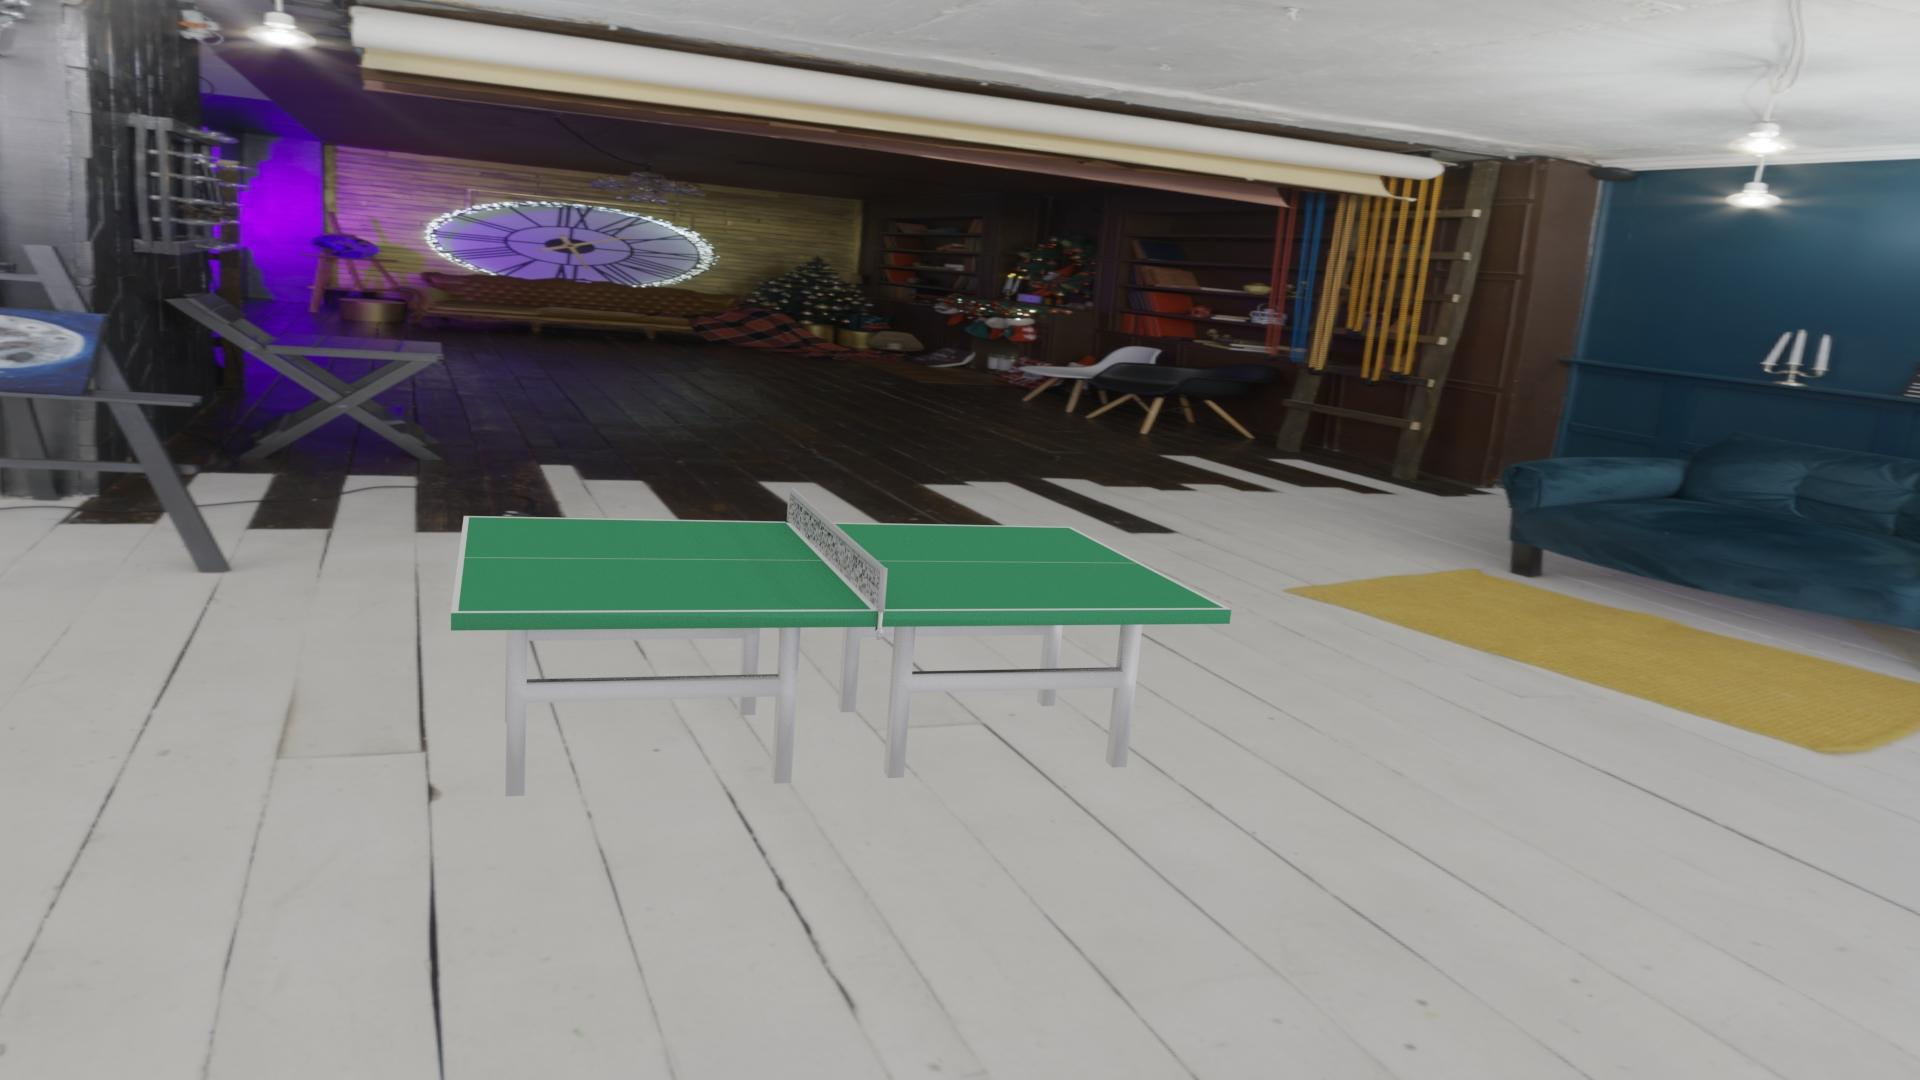table: (458, 517, 1224, 612)
